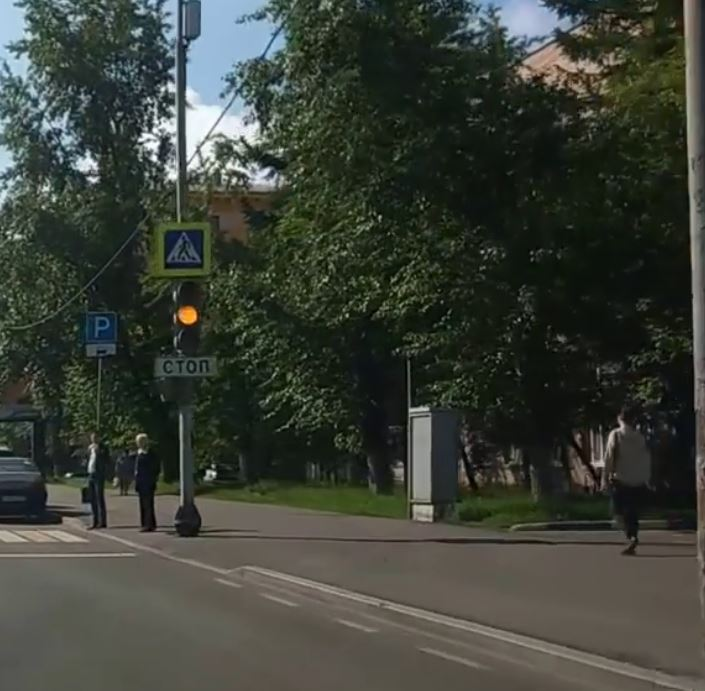Yaya Gecidi: (164, 228, 205, 268)
